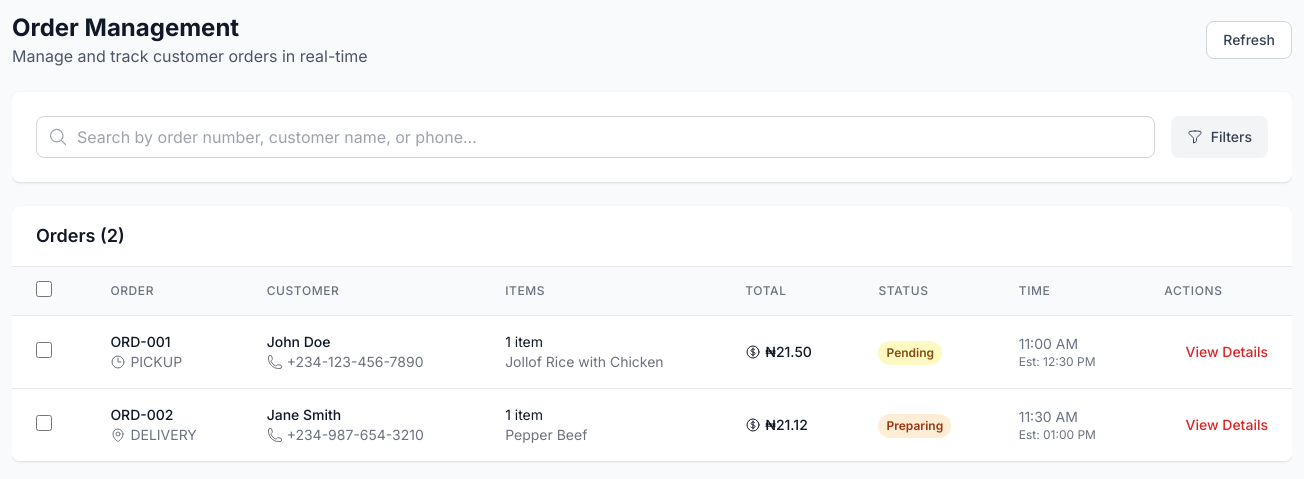
Scenario: OrderManagementPage › selects individual orders
Click the checkbox next to "ORD-001" at (44, 350), box [36,342,52,358]
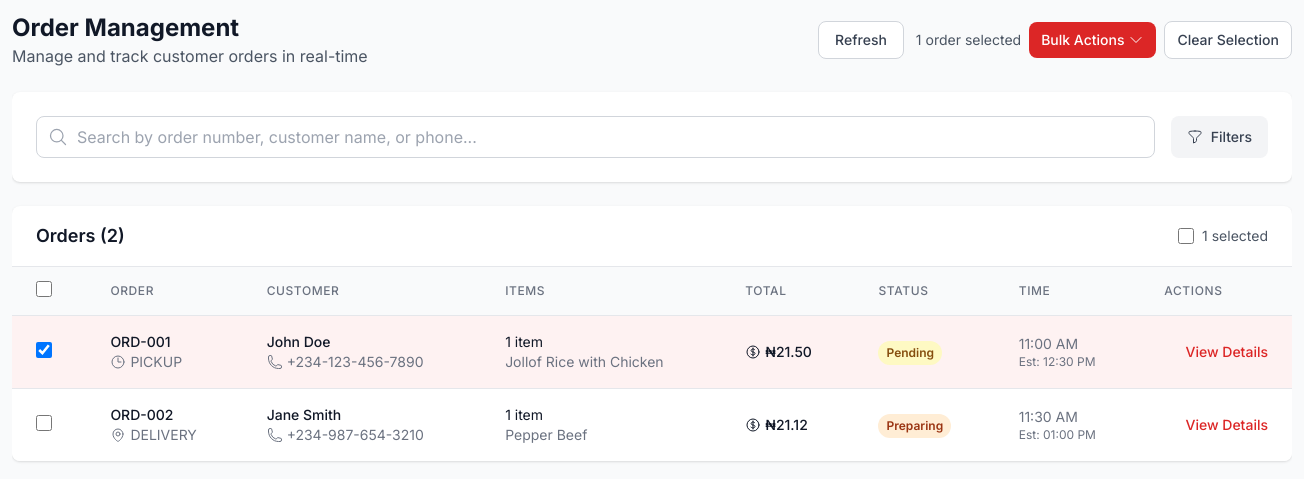
Check: the text "1 selected" is shown, box [1202,226,1268,246]
